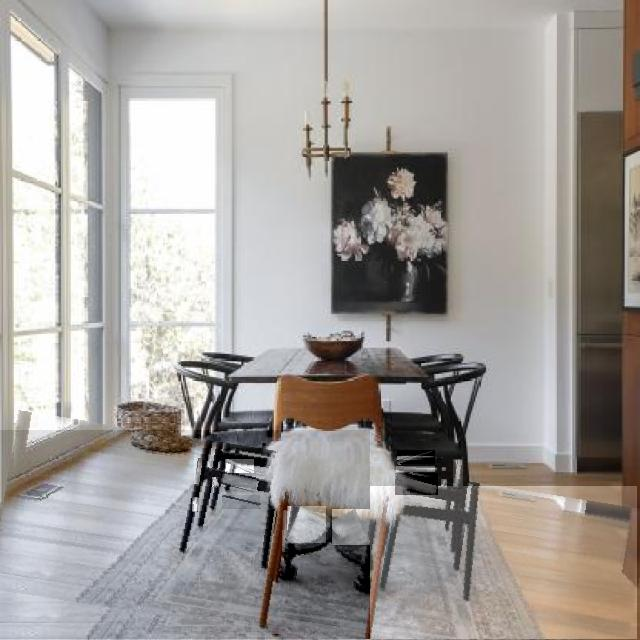floor: (0, 431, 370, 640), (371, 486, 637, 640), (287, 507, 326, 543), (333, 509, 370, 545), (396, 473, 438, 495), (222, 473, 256, 492), (398, 451, 435, 464), (223, 496, 260, 509), (225, 459, 254, 473), (453, 459, 463, 489), (396, 466, 435, 472), (372, 513, 376, 571), (194, 459, 202, 485), (281, 555, 287, 577), (283, 511, 286, 551), (192, 498, 198, 511), (213, 477, 218, 487), (442, 480, 447, 489), (442, 467, 446, 471)
